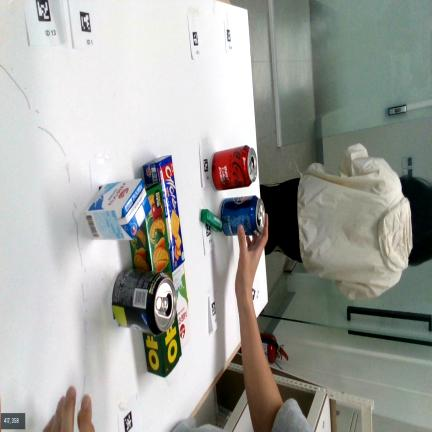can_coke_zero: (212, 145, 257, 190)
can_pepsi: (220, 195, 265, 235)
can_pepsi_zero: (112, 270, 176, 335)
cracker_ace: (143, 156, 184, 269)
cracker_vege: (129, 184, 176, 290), (142, 298, 182, 379)
gum_green: (201, 209, 222, 231)
milk_blue: (86, 179, 151, 240)
milk_green: (173, 265, 191, 349)
